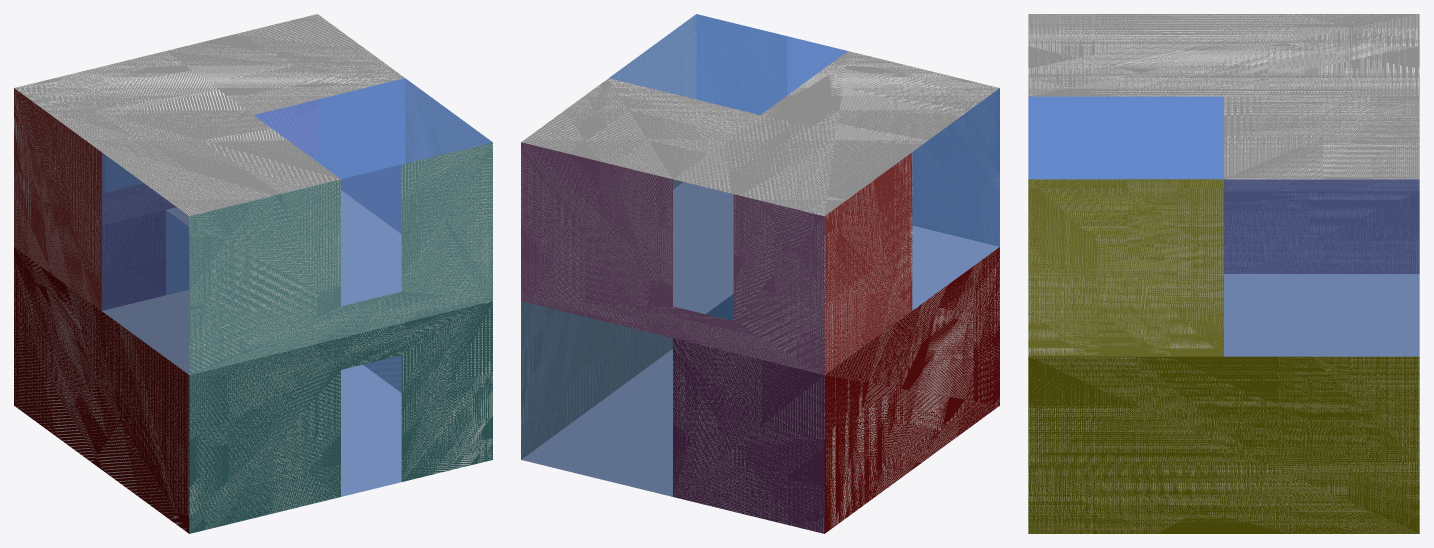
The picture shows the model from 3 angles, left to right: view 1: azimuth 30°, elevation 25°; view 2: azimuth 150°, elevation 25°; view 3: azimuth 270°, elevation 25°; orthographic projection. The views are drawn at different scales.
Parts seen in each view (by area): view 1: instance_0 (×18); view 2: instance_0 (×15); view 3: instance_0 (×10).
Boxes of the visible parts, x1,y1,x2,y2 form: instance_0 (×18): (14,14,492,533); instance_0 (×15): (521,14,999,533); instance_0 (×10): (1028,14,1419,533).
Size of the model in its own units: 197 by 197 by 197.
